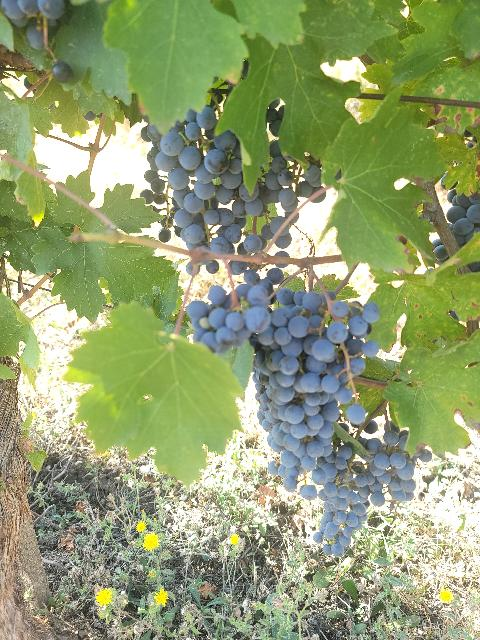grapes: (264, 288, 380, 438), (160, 105, 246, 254), (312, 445, 375, 556), (186, 285, 271, 351), (365, 421, 416, 492)
